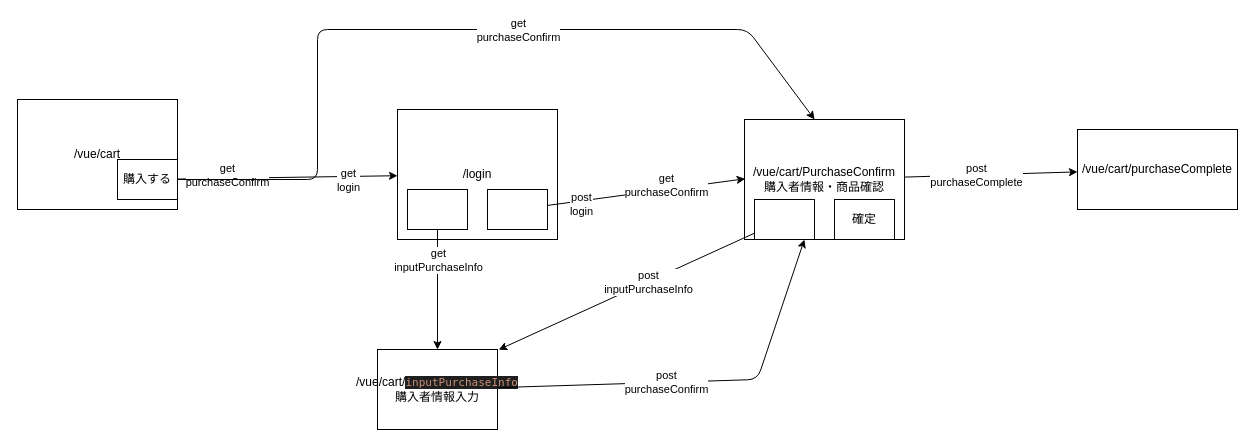
This 1255x447 diagram has some shape labels left out. The centre of each missing label's shape, as x and y in pixels:
ログイン: point (517, 209)
ログイン無し購入: point (437, 209)
修正: point (784, 219)
